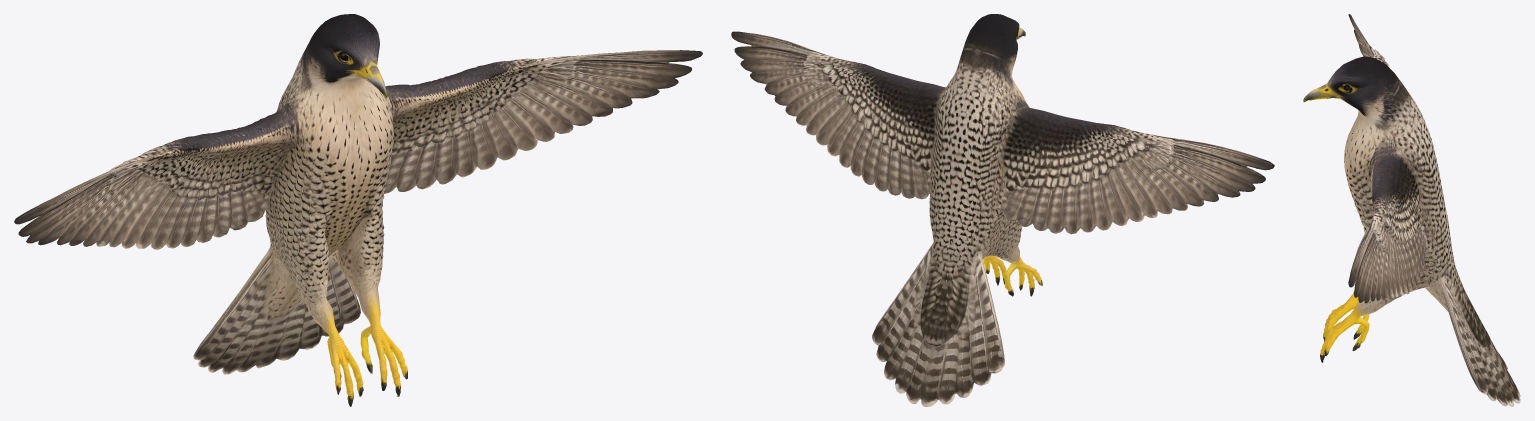
The model's file is falcon.glb.
3 renders of one model, left to right at view 1: azimuth 30°, elevation 25°; view 2: azimuth 150°, elevation 25°; view 3: azimuth 270°, elevation 25°, orthographic. The views are drawn at different scales.
Bounding box in the file's own units: 1.9 × 1.12 × 0.6463.
1 material, 1 textured.
